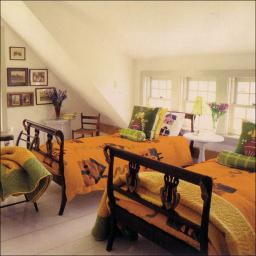Cama: (105, 136, 253, 245), (47, 110, 188, 177)
